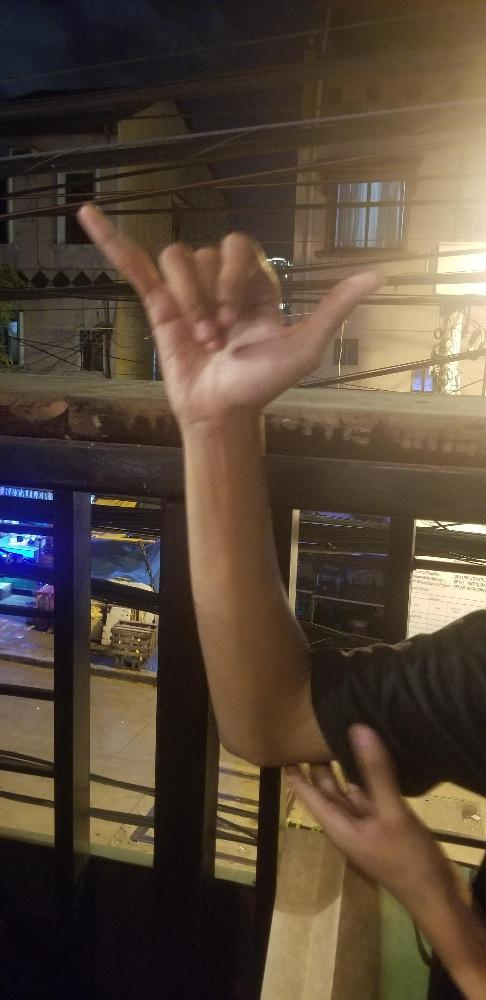y: (76, 201, 386, 417)
